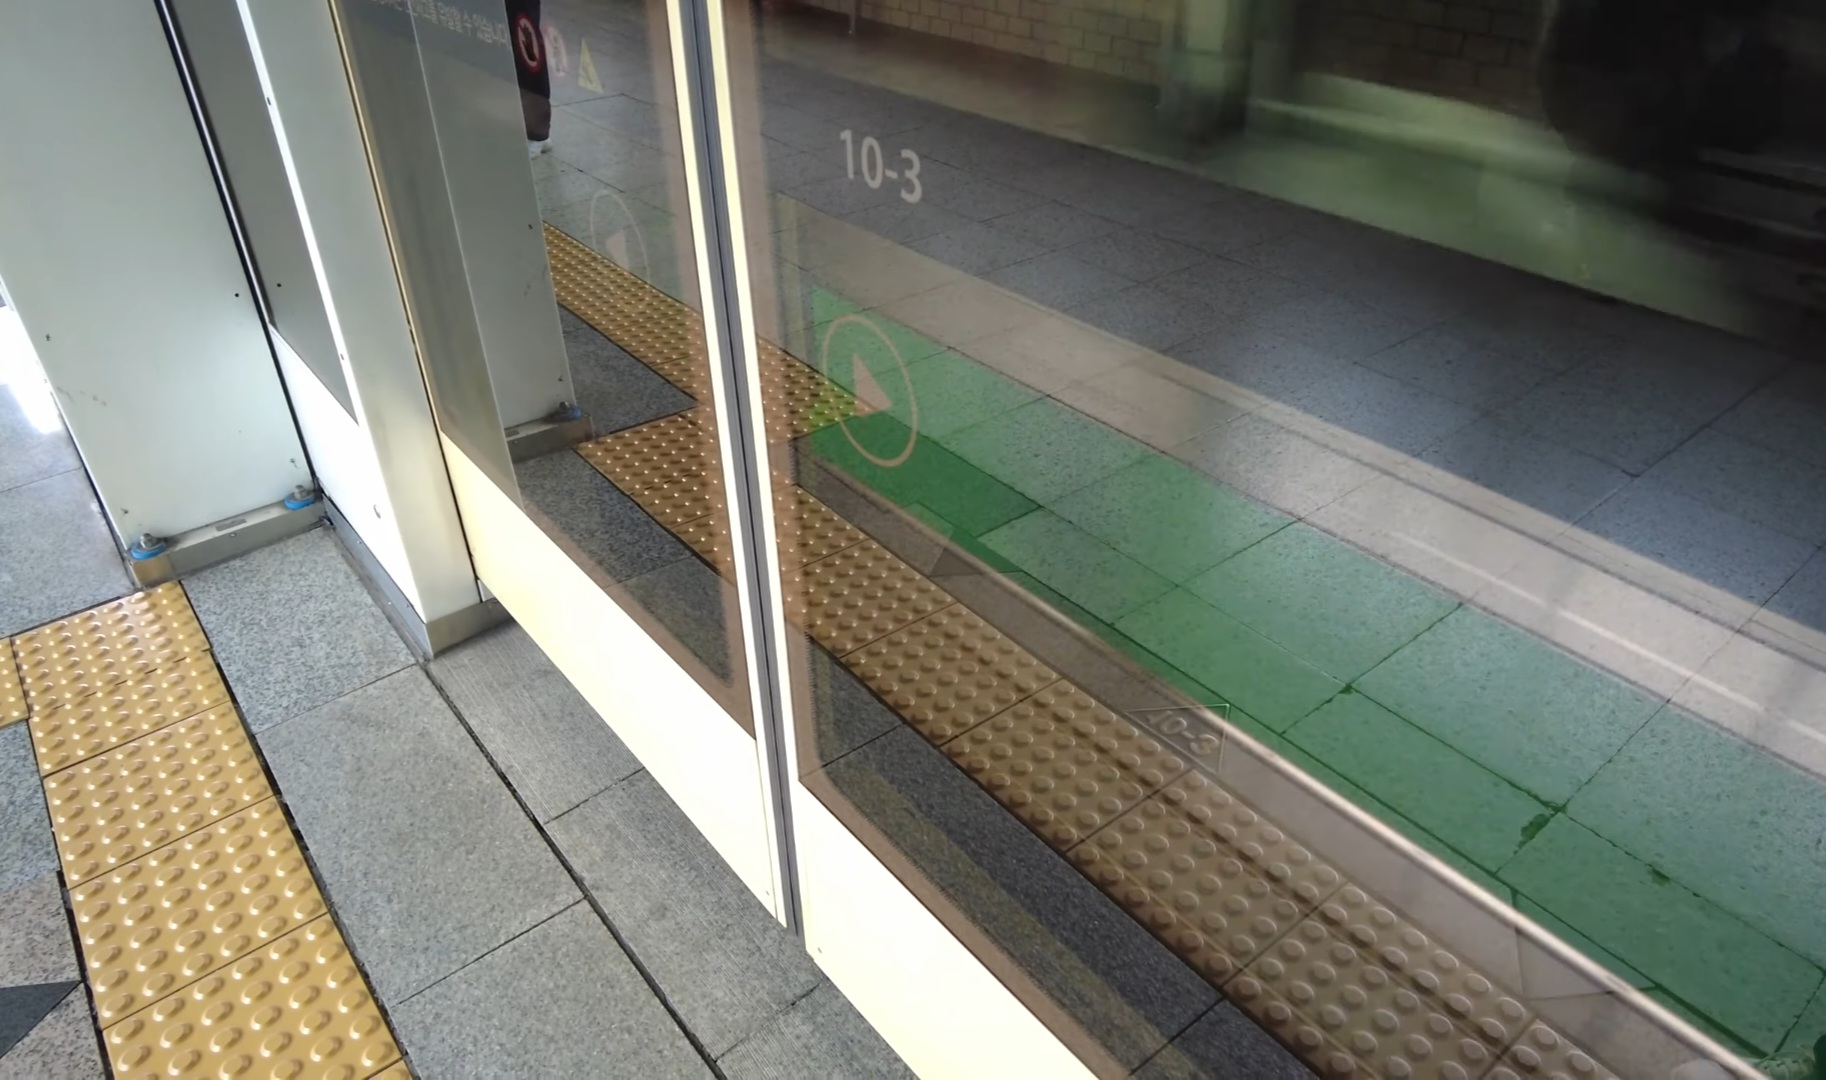warningBlock: (98, 953, 418, 1080), (69, 841, 330, 950), (44, 737, 274, 841), (37, 663, 227, 737), (26, 609, 186, 663)
